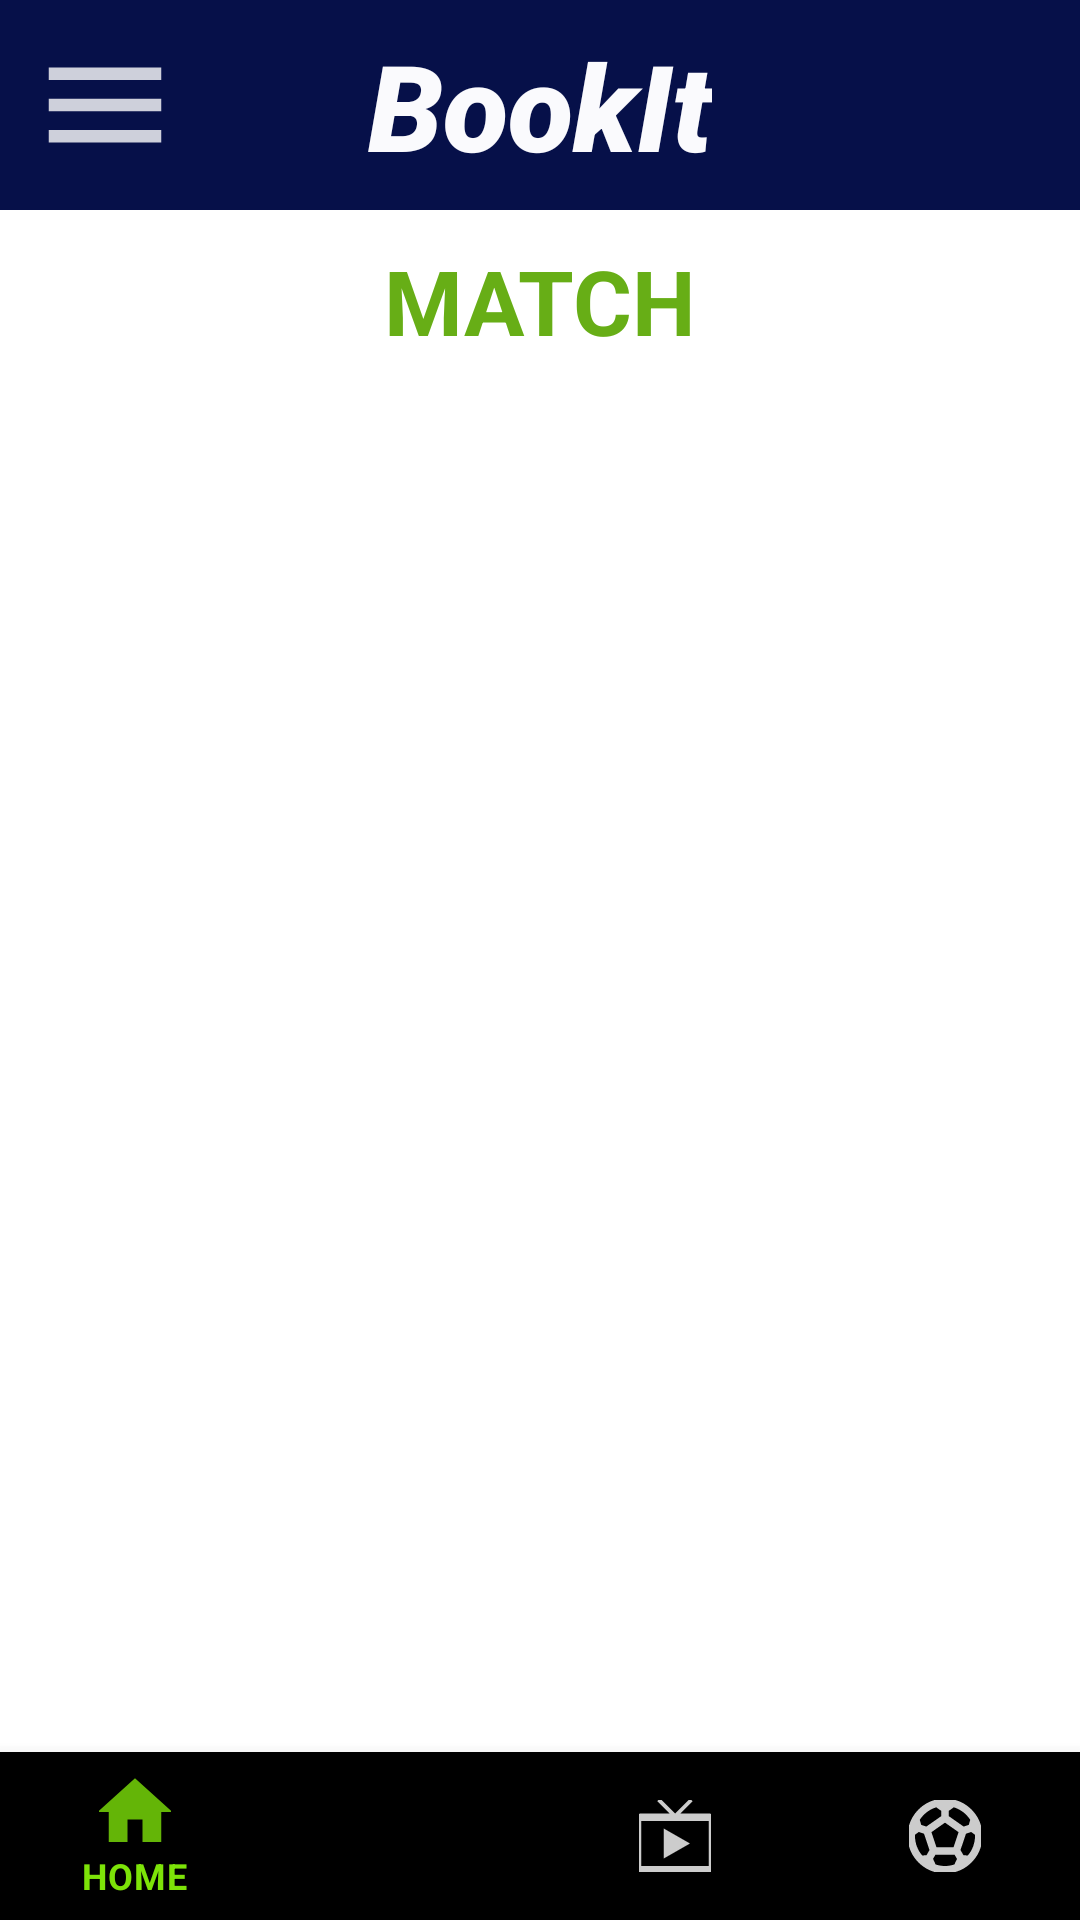

Point at icon controls on the screen. Image size 1080x1920, points as (x=x, y=y).
menu: (x=105, y=105)
